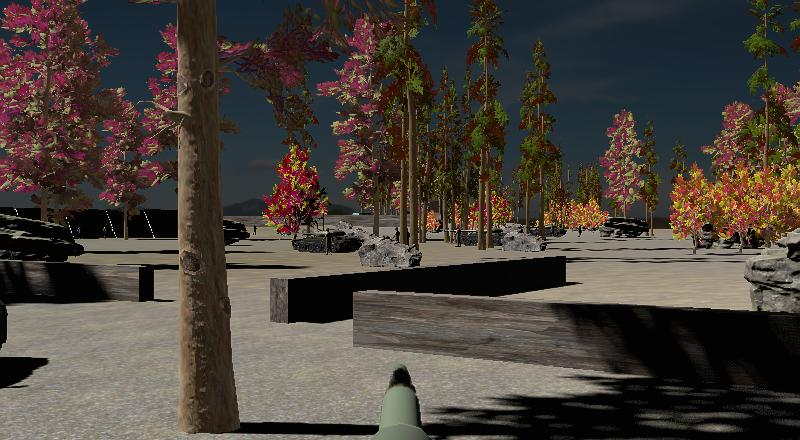Tank: (281, 225, 371, 254), (530, 221, 569, 238)
